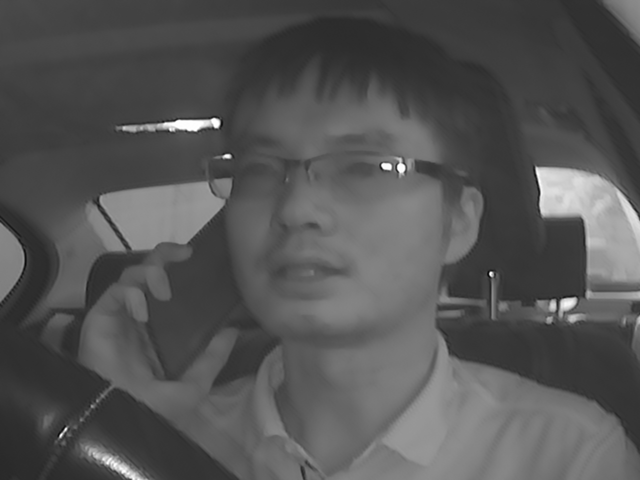hand: (82, 239, 214, 422)
